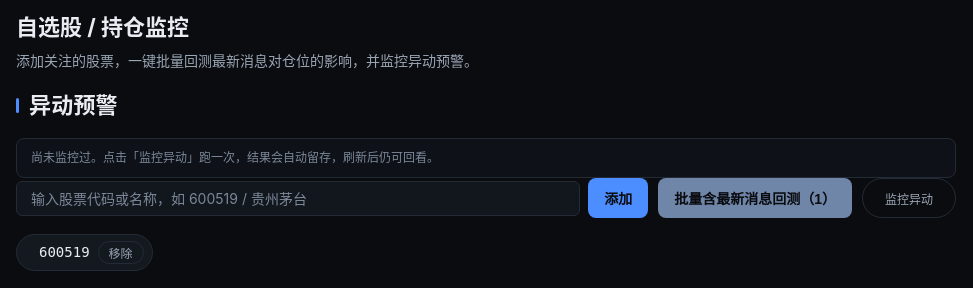
Scenario: WatchlistPage 添加与移除 › 从下拉候选选中：列表显示中文名称，移除按钮同时标注名称与代码
Expected: the text "600519" is shown, [39, 242, 90, 263]
Type "五粮液" into the dropdown named "自选股搜索" at (298, 198), box [16, 180, 580, 216]
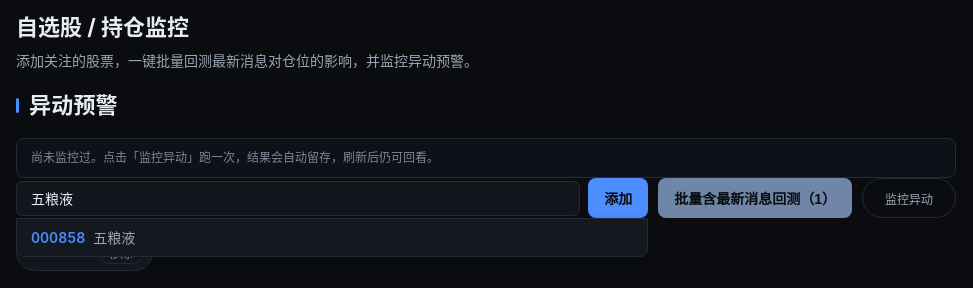
Press the mouse on the option "000858 五粮液" at (83, 238), box [31, 229, 135, 246]
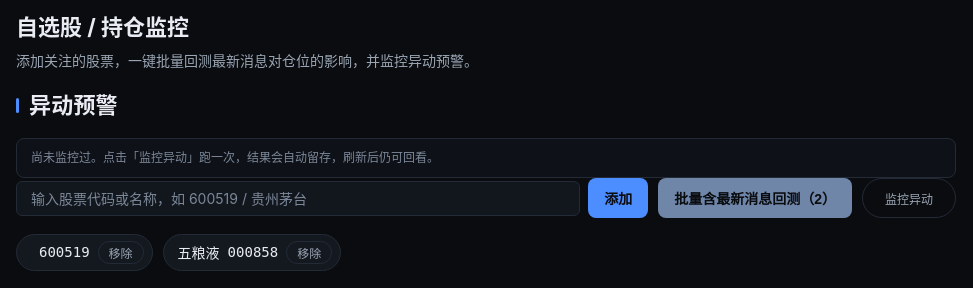
Expected: the button with aria-label "移除 五粮液（000858）" is shown, [286, 241, 332, 264]
Expected: the dropdown named "自选股搜索" is empty, [16, 180, 580, 216]
Expected: the list with class "stock-search-dropdown" is gone
